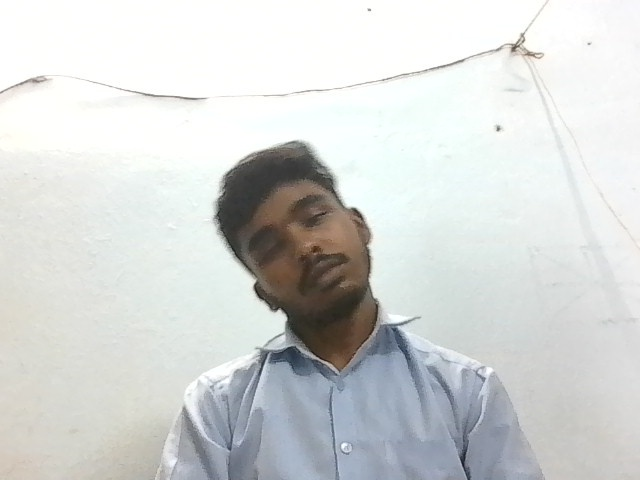real: (249, 158, 360, 316)
